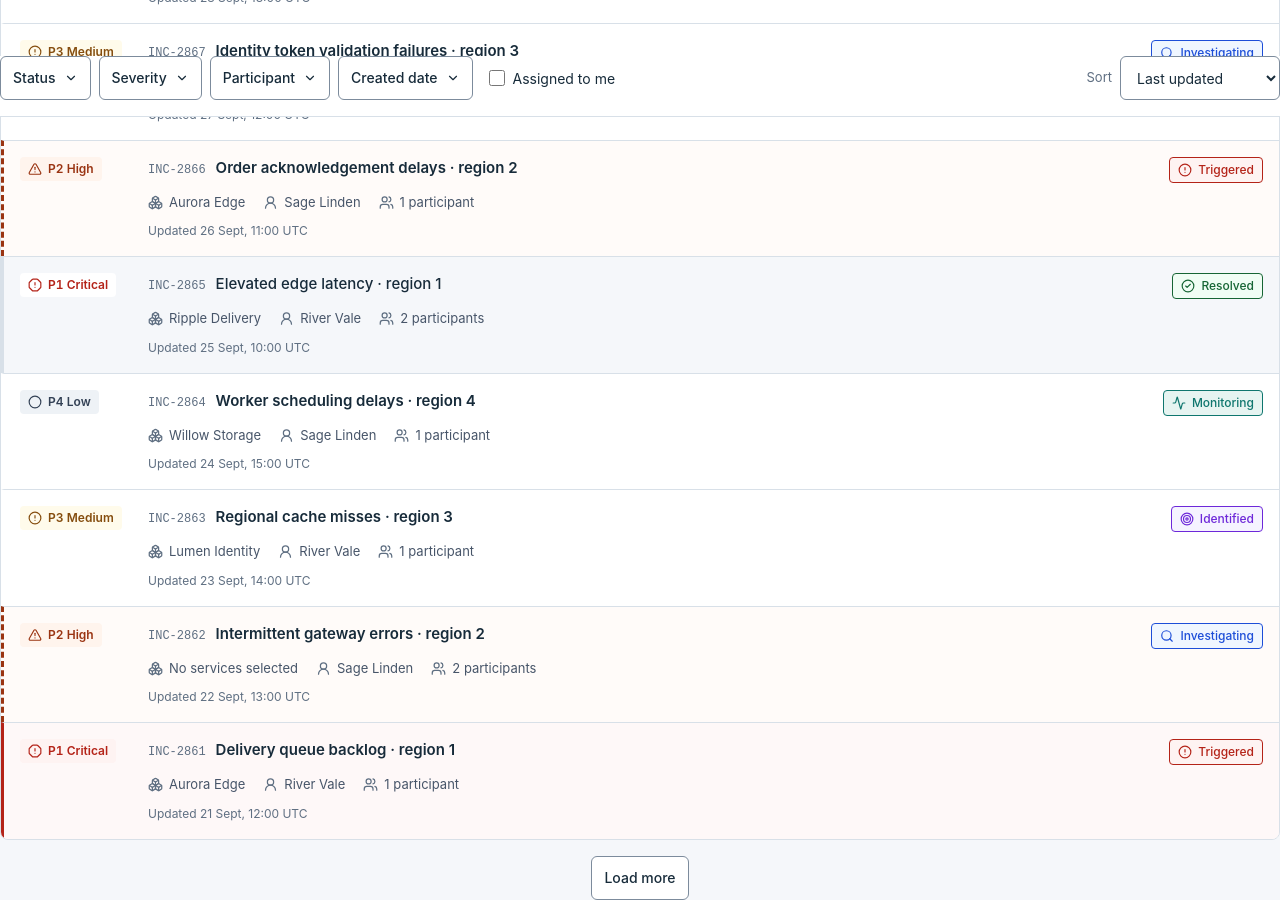
Scenario: keeps confirmed pages on pagination failure and retries the same cursor
The image size is (1280, 900).
(page scrolled)
Click the button "Load more".
click(640, 878)  # box [591,856,688,899]
(page scrolled)
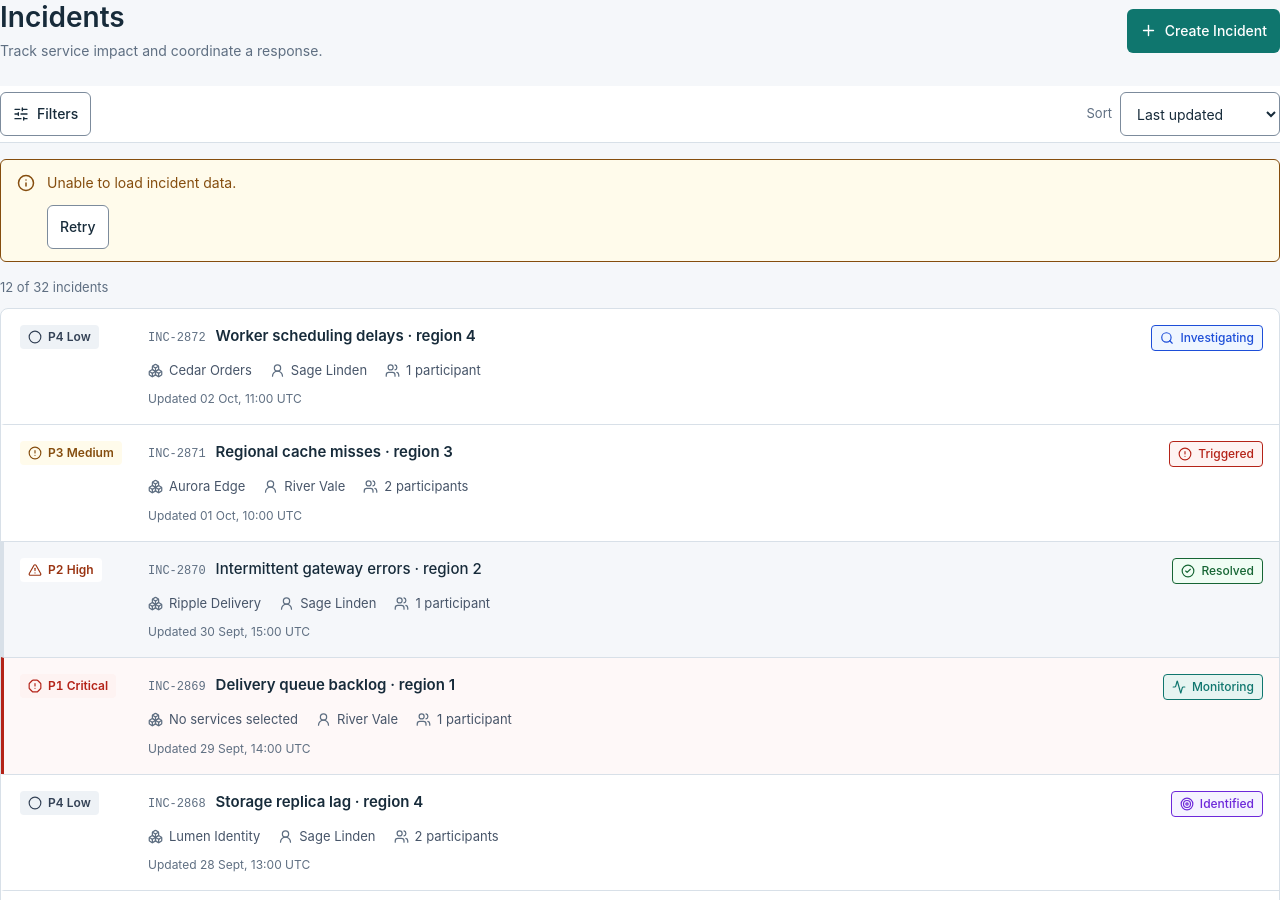
Expected: the message "Unable to load incident data. Retry" is shown, [0,159,1279,262]
Click the button "Retry".
click(78, 227)  # box [47,205,109,249]
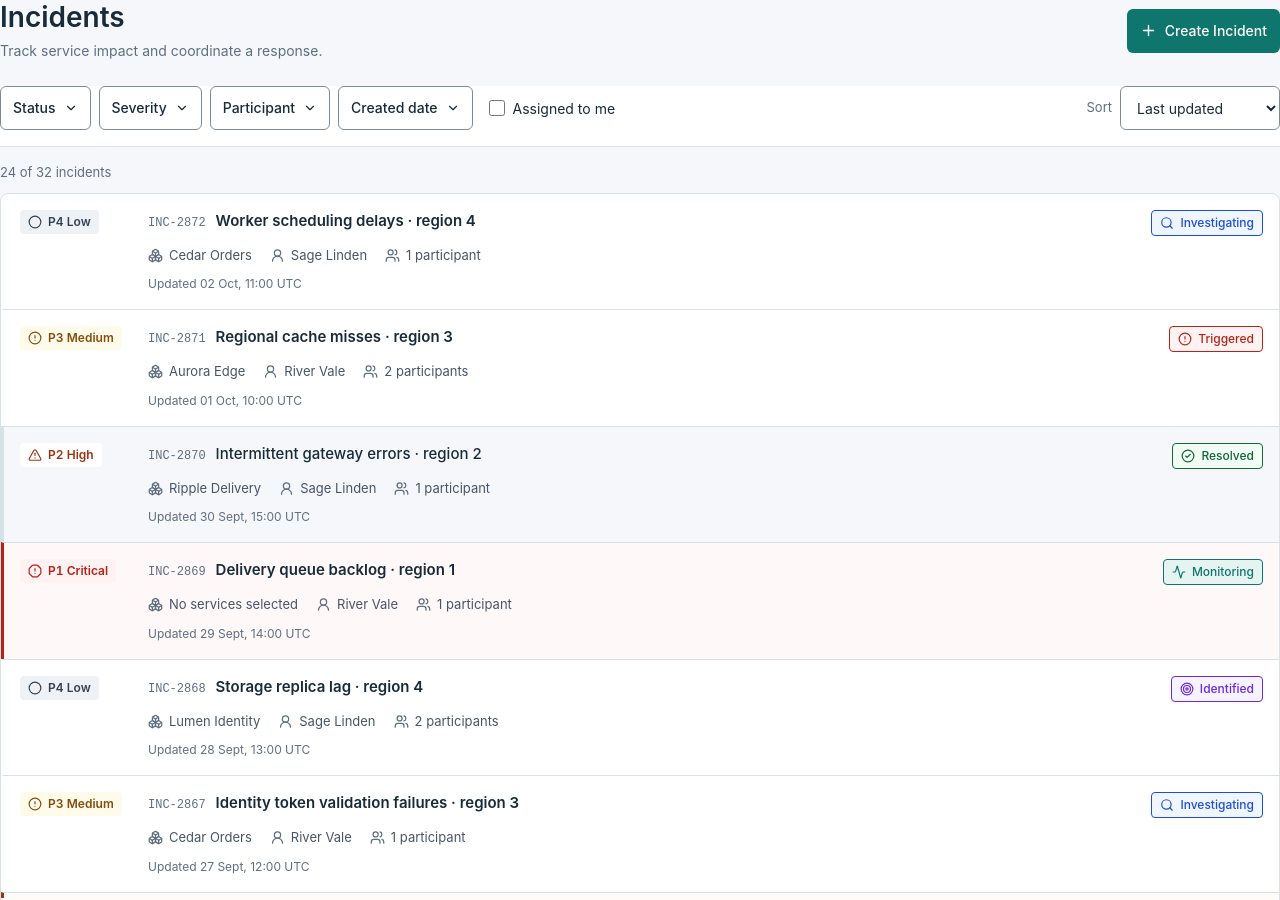
Expected: the number of list items is 24
